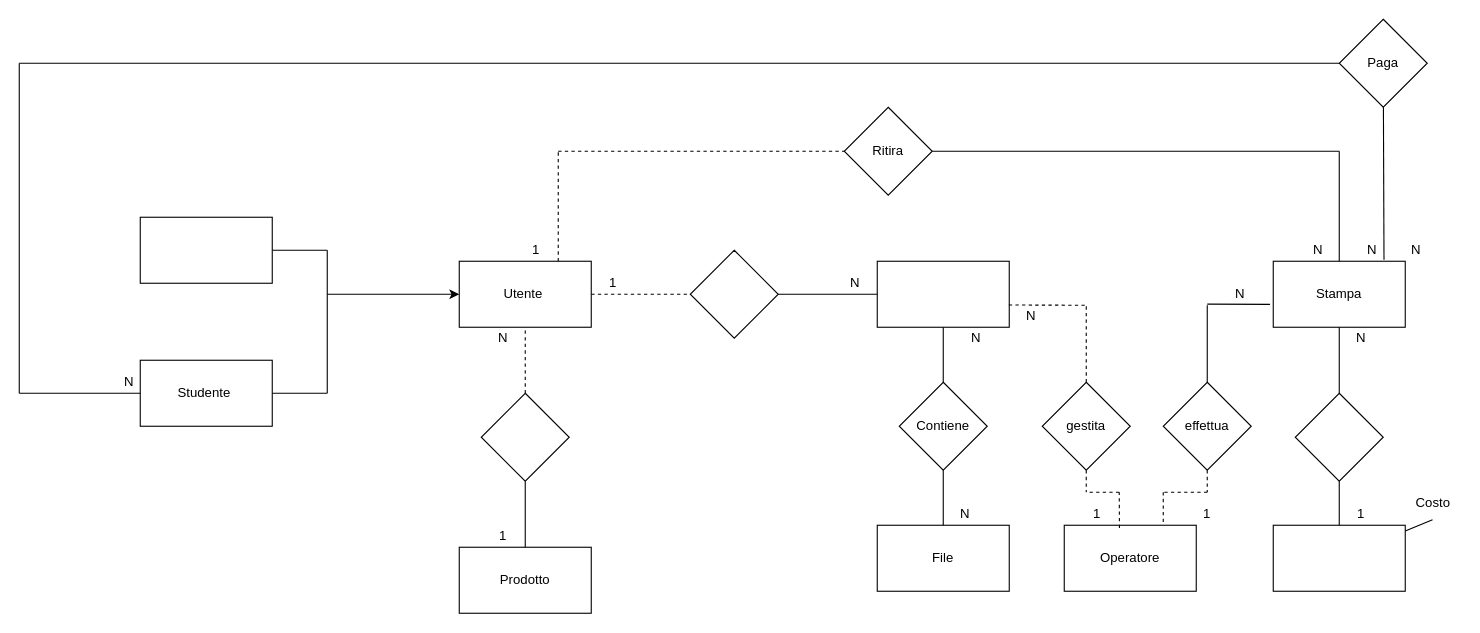
Some shapes in this 1480 by 633 pixel diagram are drawn without their labels. The shapes that lost their labels are listed below. From the top down, each one's box as (x1, y1, x2, y2) in pixels, then its label:
(139, 216, 272, 283): Professore
(689, 249, 778, 338): Fa
(876, 260, 1009, 327): Prenotazione
(480, 392, 569, 481): acquista
(1294, 392, 1383, 481): In
(1272, 524, 1405, 591): Formato
